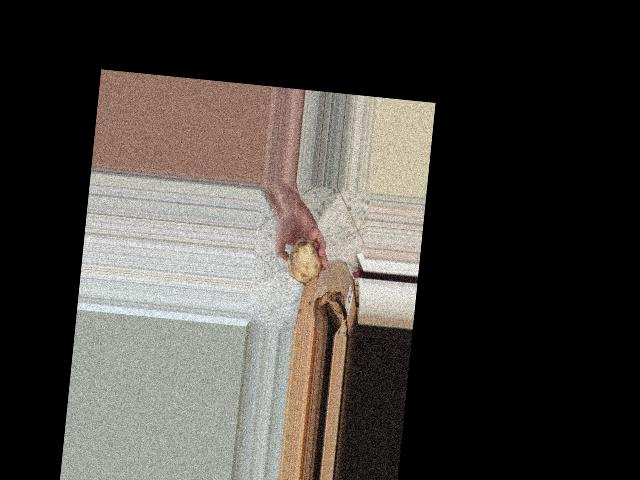onion: (282, 234, 327, 287)
